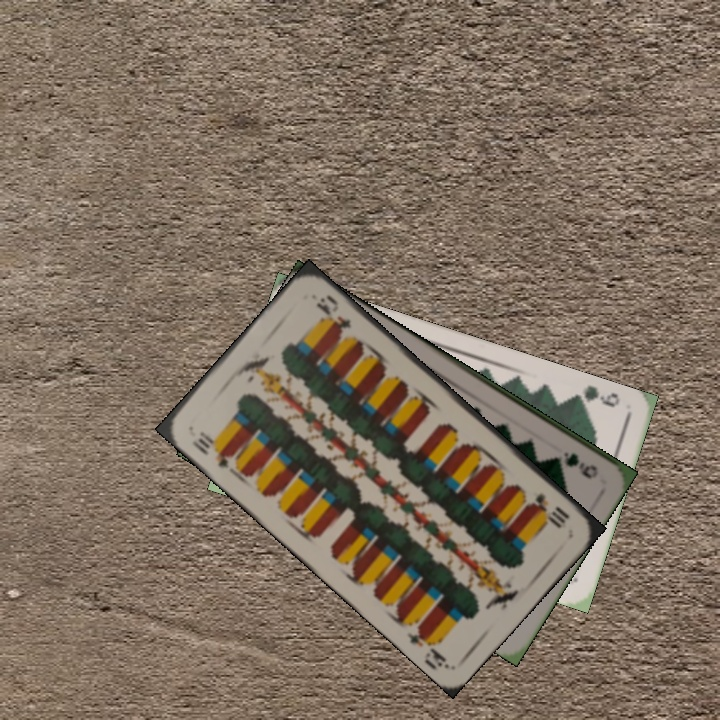E10: (520, 489, 572, 532), (187, 427, 235, 471)
G9: (567, 381, 623, 410), (559, 448, 601, 482)
